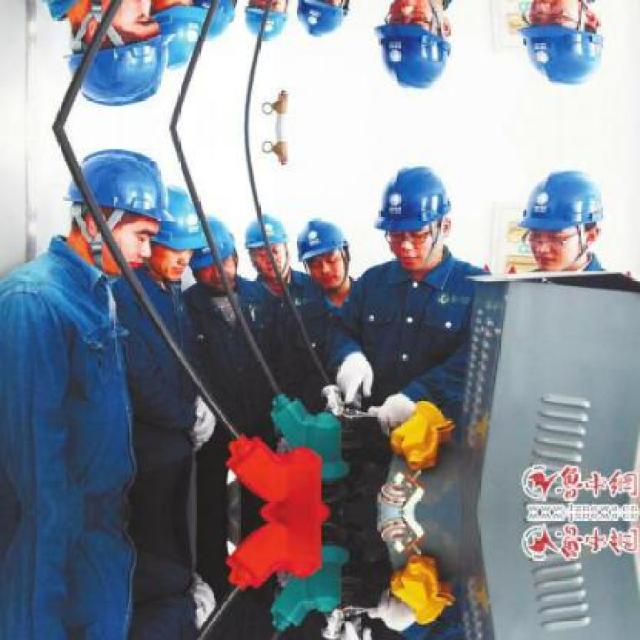helmet: (72, 144, 165, 268), (514, 160, 612, 277), (72, 0, 166, 109), (372, 156, 456, 272), (514, 0, 612, 94), (372, 0, 456, 98), (150, 182, 207, 280), (294, 213, 352, 292), (149, 0, 207, 72), (190, 216, 238, 292), (245, 213, 287, 276), (294, 0, 354, 40), (189, 0, 240, 37), (245, 0, 288, 40)
